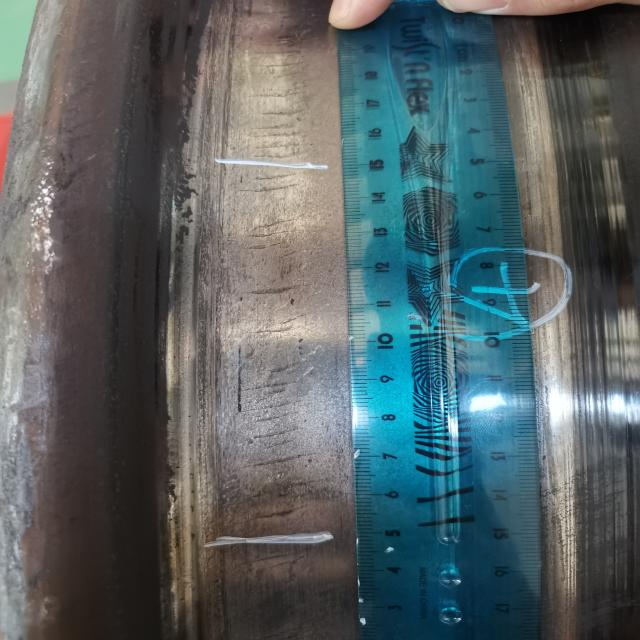Contact_Fatigue_Cracks: (239, 51, 321, 533)
